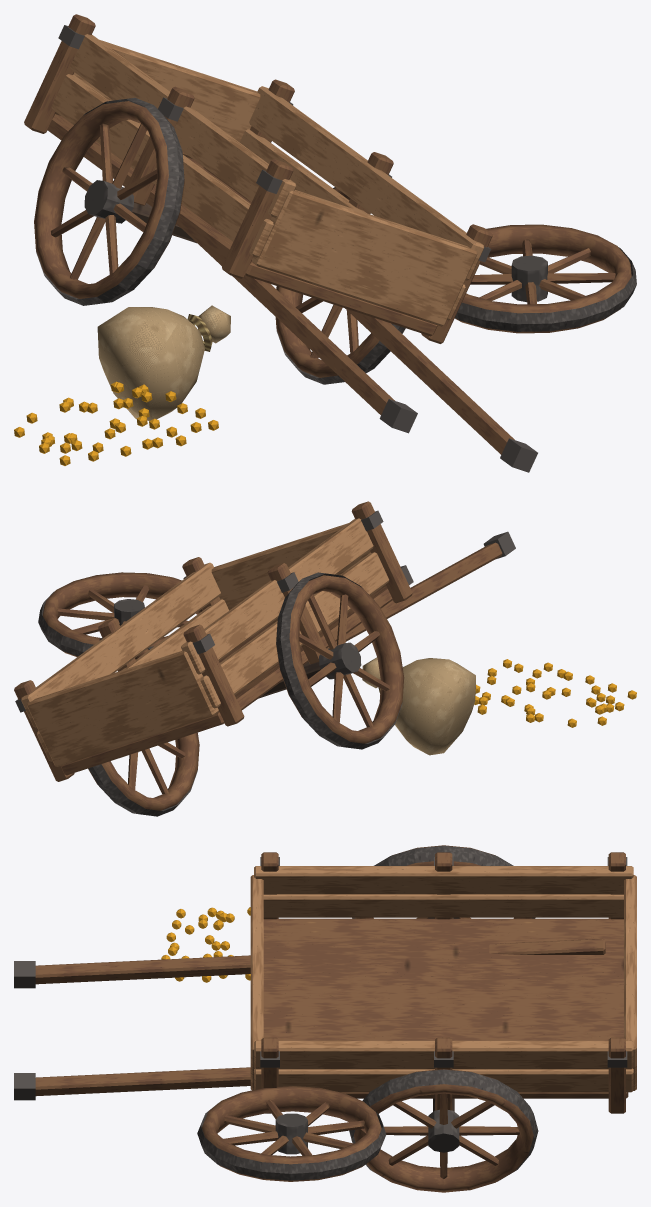
The model's file is broken_cart.glb.
3 views of the same model, one above another, from view 1: azimuth 30°, elevation 25°; view 2: azimuth 150°, elevation 25°; view 3: azimuth 270°, elevation 25° (orthographic). The views are drawn at different scales.
Visible parts, largest first — view 1: broken_cart_cart, broken_cart_spill; view 2: broken_cart_cart, broken_cart_spill; view 3: broken_cart_cart, broken_cart_spill.
Boxes of the visible parts, bbox=[...] form: broken_cart_cart: bbox=[24, 14, 537, 472]; broken_cart_spill: bbox=[14, 224, 636, 465]; broken_cart_cart: bbox=[14, 501, 515, 816]; broken_cart_spill: bbox=[38, 572, 636, 755]; broken_cart_cart: bbox=[14, 845, 636, 1192]; broken_cart_spill: bbox=[161, 907, 386, 1181].
Size of what is drawn, in the model's own units: 2.95 by 1.43 by 2.87.
7 materials, 7 textured.
